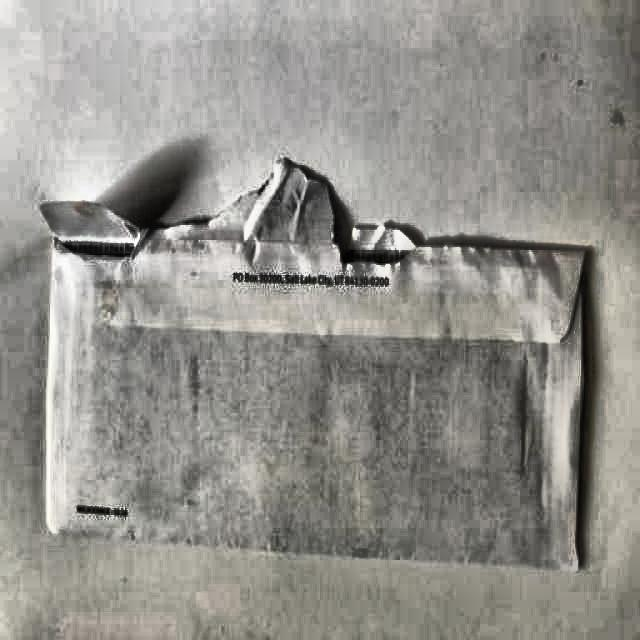Paper: (36, 155, 585, 572)
